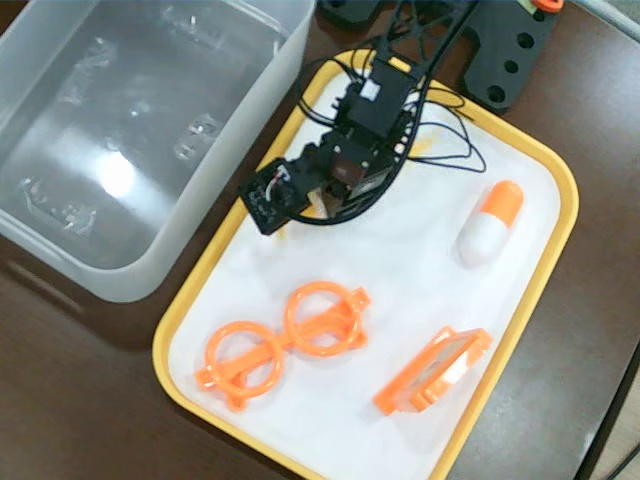pill: (457, 180, 524, 267)
